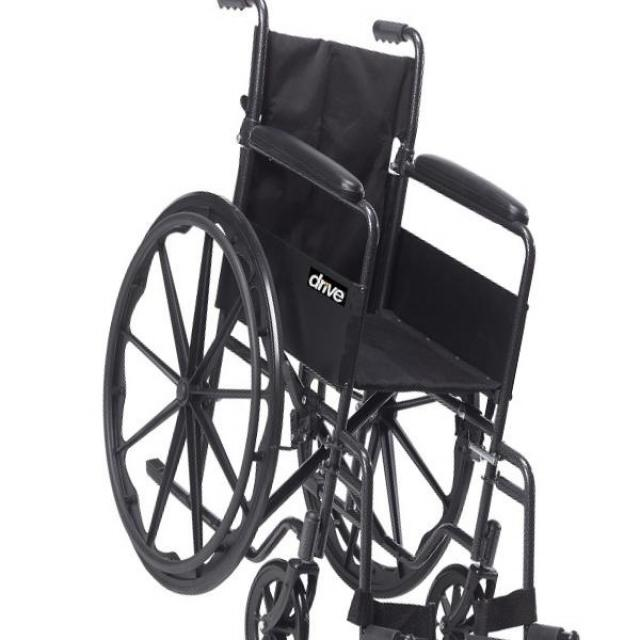wheelchair: (91, 2, 598, 640)
